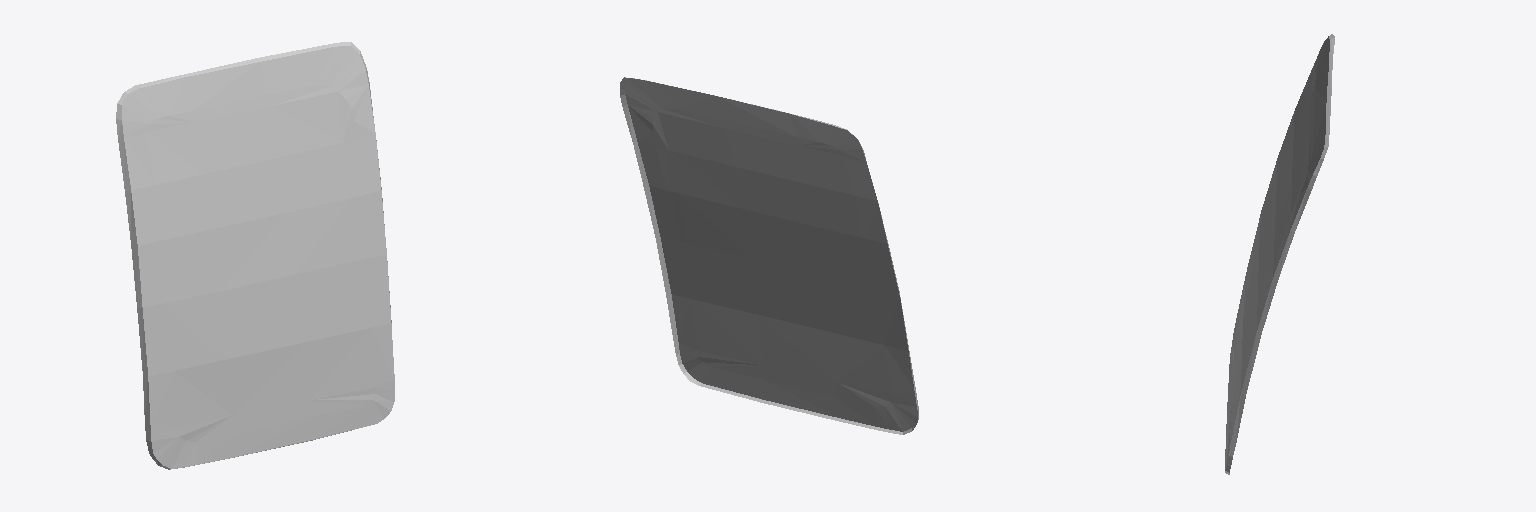
3 renders of one model, left to right at view 1: azimuth 30°, elevation 25°; view 2: azimuth 150°, elevation 25°; view 3: azimuth 270°, elevation 25°, orthographic.
Visible parts, largest first — view 1: P615_5A_40GP_R_1_DTaSI_P615_5A_40GP_R, P615_5A_40GP_R_P615_5A_40GP_R_2_DTaSI; view 2: P615_5A_40GP_R_1_DTaSI_P615_5A_40GP_R, P615_5A_40GP_R_P615_5A_40GP_R_2_DTaSI; view 3: P615_5A_40GP_R_1_DTaSI_P615_5A_40GP_R, P615_5A_40GP_R_P615_5A_40GP_R_2_DTaSI.
Part boxes in pixels (bbox=[...]): P615_5A_40GP_R_1_DTaSI_P615_5A_40GP_R: bbox=[148, 85, 374, 441]; P615_5A_40GP_R_P615_5A_40GP_R_2_DTaSI: bbox=[116, 42, 394, 469]; P615_5A_40GP_R_1_DTaSI_P615_5A_40GP_R: bbox=[652, 109, 891, 406]; P615_5A_40GP_R_P615_5A_40GP_R_2_DTaSI: bbox=[620, 77, 918, 434]; P615_5A_40GP_R_1_DTaSI_P615_5A_40GP_R: bbox=[1228, 72, 1315, 446]; P615_5A_40GP_R_P615_5A_40GP_R_2_DTaSI: bbox=[1225, 34, 1334, 474].
Bounding box in the file's own units: 47.55 × 60.73 × 17.58.